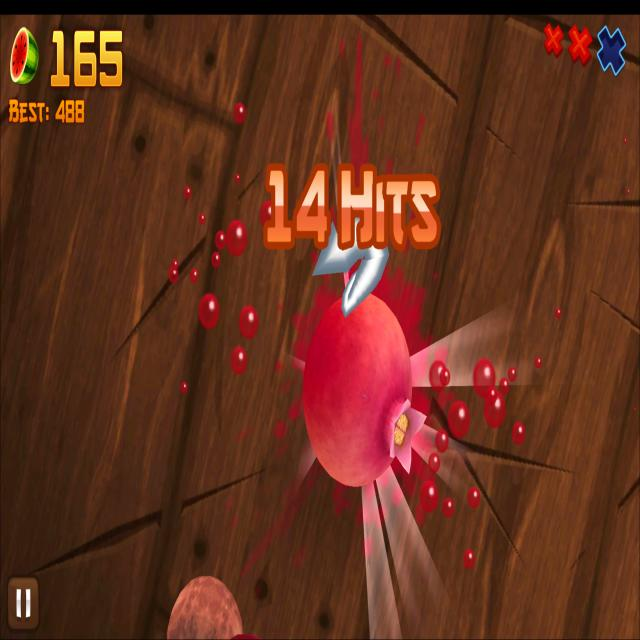fruit: (303, 295, 413, 486), (167, 574, 243, 640)
